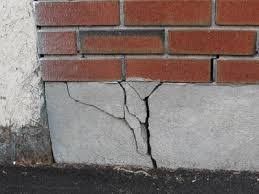crack: (64, 80, 162, 168)
